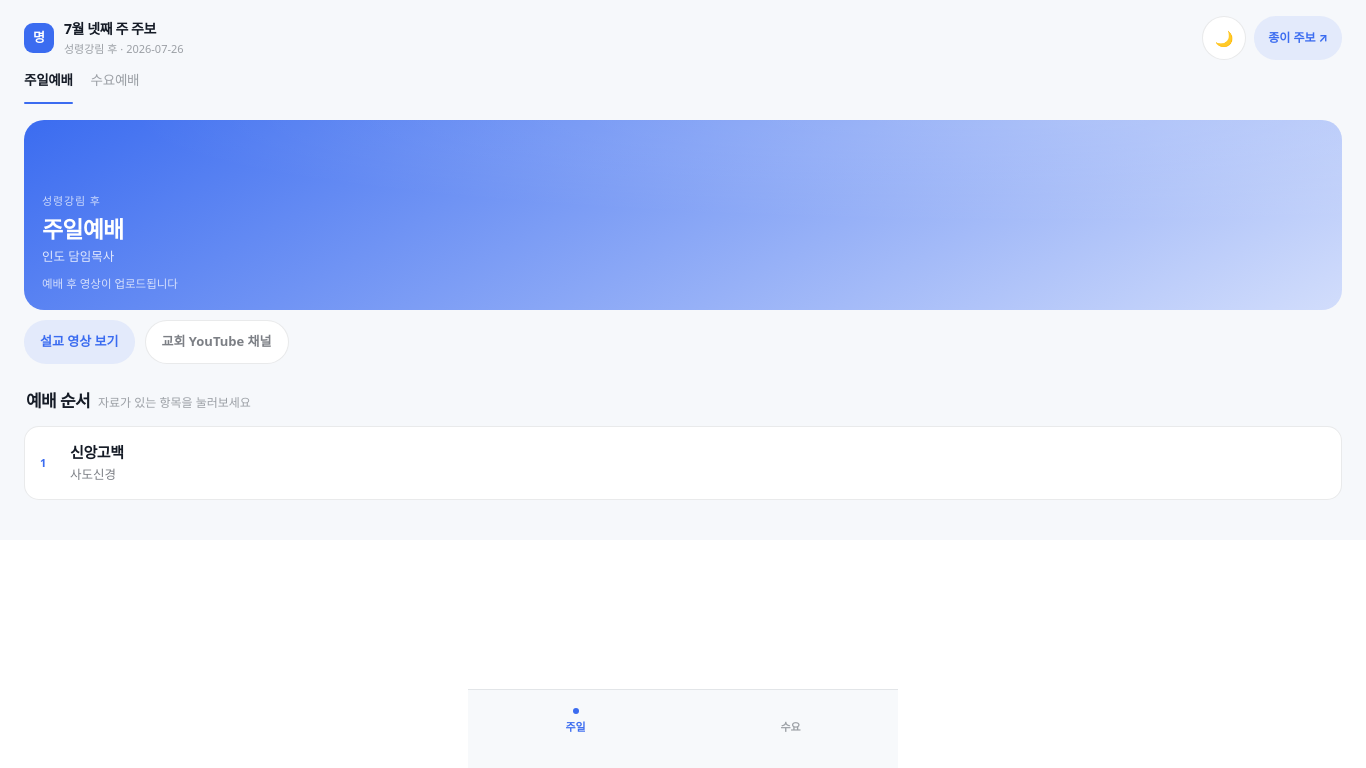
Test: MobileServiceExperience › switches the gradient hero from the fixed service navigator
The width and height of the screenshot is (1366, 768).
Click the button "수요" at [790, 722], box 683,690 -> 898,754
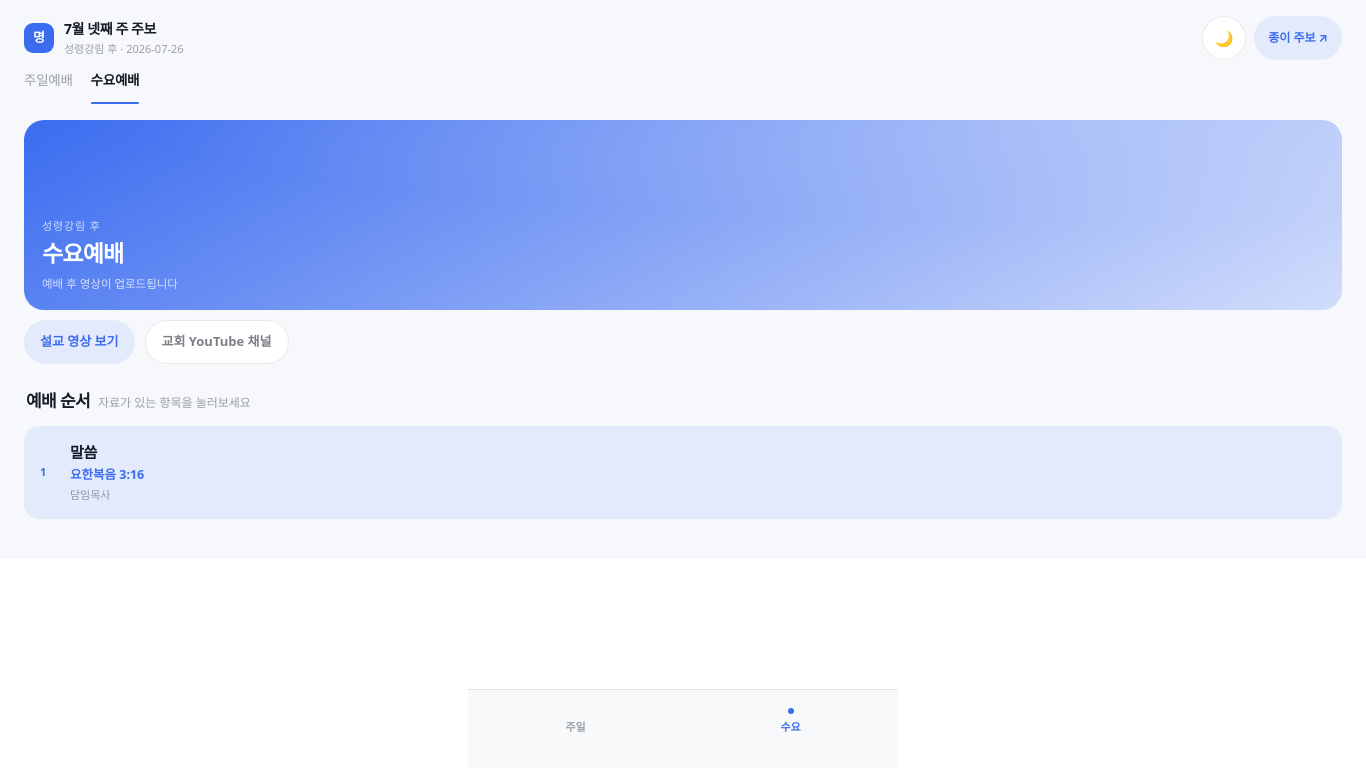
Now the heading "수요예배" is shown, box 42,237 -> 123,269
